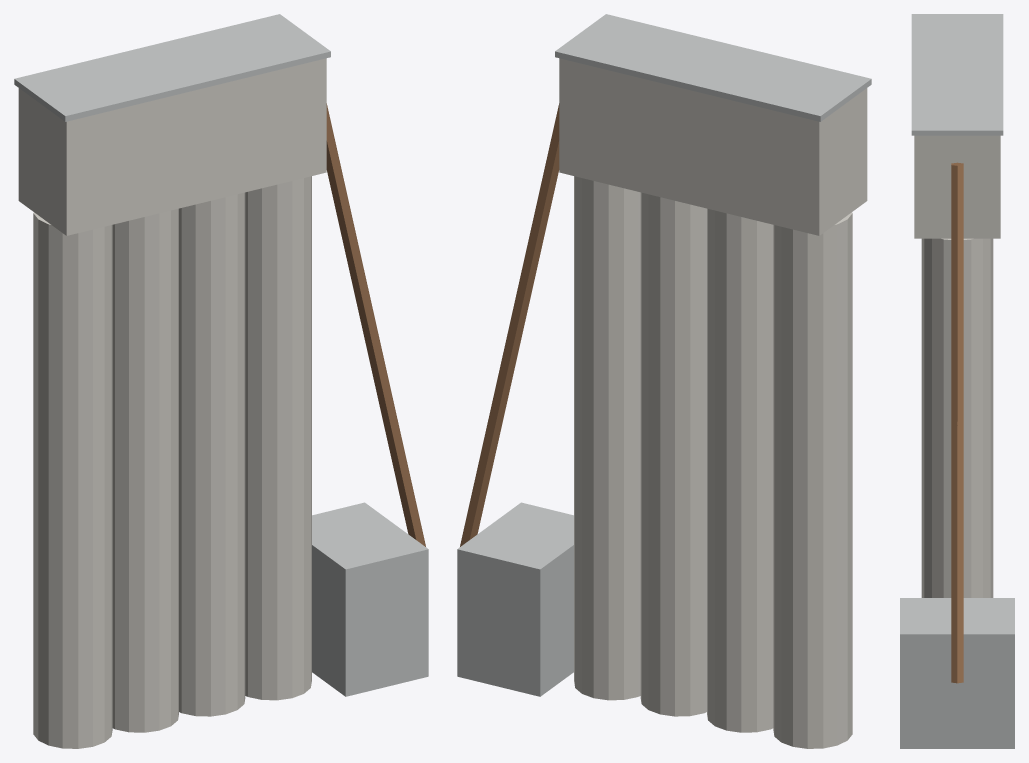
File: GrainElevator.glb
3 renders of one model, left to right at view 1: azimuth 30°, elevation 25°; view 2: azimuth 150°, elevation 25°; view 3: azimuth 270°, elevation 25°, orthographic. The views are drawn at different scales.
Visible parts, largest first — view 1: Silo, Headhouse, Silo.002, Silo.003, Silo.001, Driveway shed, Headhouse roof, Limb.060; view 2: Silo, Headhouse, Silo.002, Silo.003, Silo.001, Driveway shed, Headhouse roof, Limb.060; view 3: Silo.003, Driveway shed, Headhouse roof, Headhouse, Limb.060.
Part boxes in pixels (box(x1,y1,x2,y2)): Silo: box(33, 212, 112, 748); Headhouse: box(18, 58, 326, 235); Silo.002: box(179, 192, 245, 716); Silo.003: box(245, 176, 311, 700); Silo.001: box(112, 208, 178, 732); Driveway shed: box(312, 502, 428, 696); Headhouse roof: box(14, 14, 330, 121); Limb.060: box(326, 103, 425, 546); Silo: box(773, 212, 852, 748); Headhouse: box(559, 58, 867, 235); Silo.002: box(640, 192, 706, 716); Silo.003: box(574, 176, 640, 700); Silo.001: box(707, 208, 773, 732); Driveway shed: box(457, 502, 573, 696); Headhouse roof: box(555, 14, 871, 121); Limb.060: box(460, 103, 559, 546); Silo.003: box(921, 238, 993, 597); Driveway shed: box(900, 598, 1014, 748); Headhouse roof: box(911, 14, 1003, 135); Headhouse: box(914, 135, 1000, 238); Limb.060: box(951, 162, 963, 683).
Size of the model in its own units: 14.09 by 22.2 by 4.
